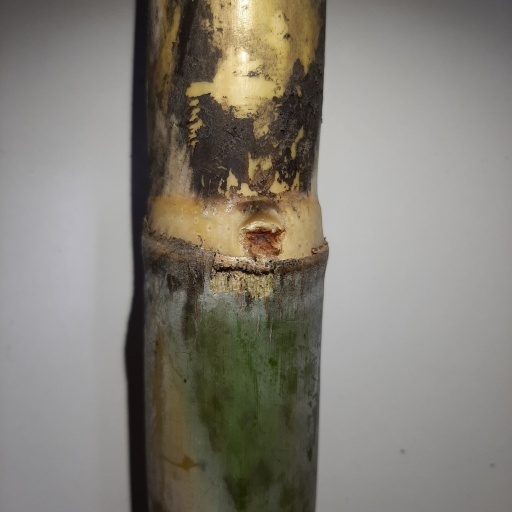Damage_Bud: (242, 213, 283, 259)
